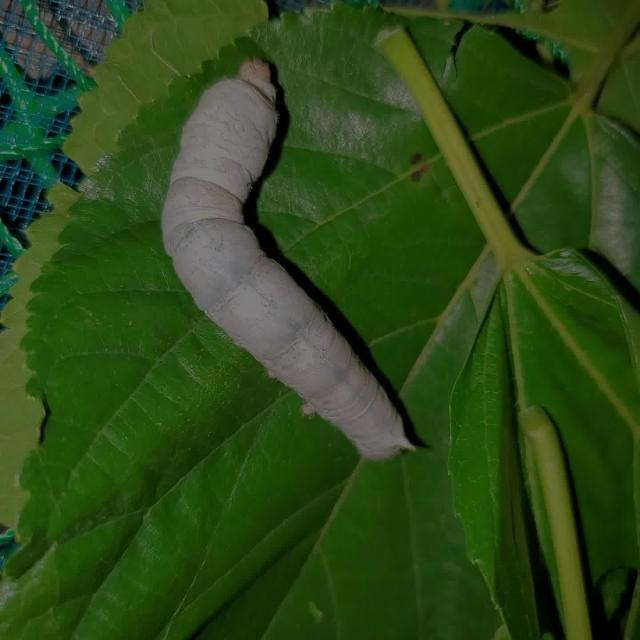Healthy: (142, 43, 454, 480)
